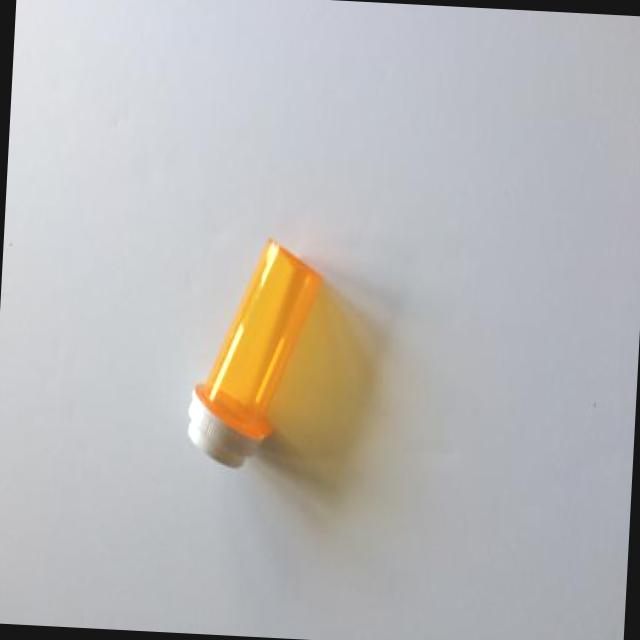Recycle: (182, 230, 324, 473)
